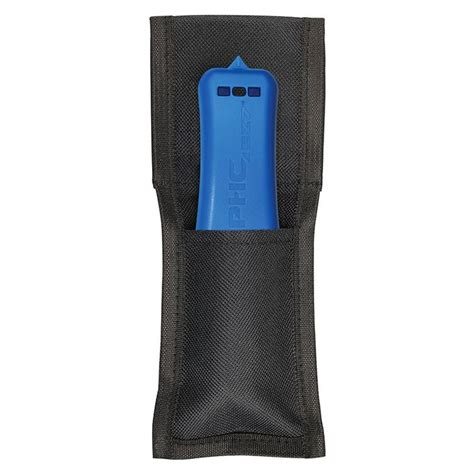nylon: (149, 16, 330, 459)
